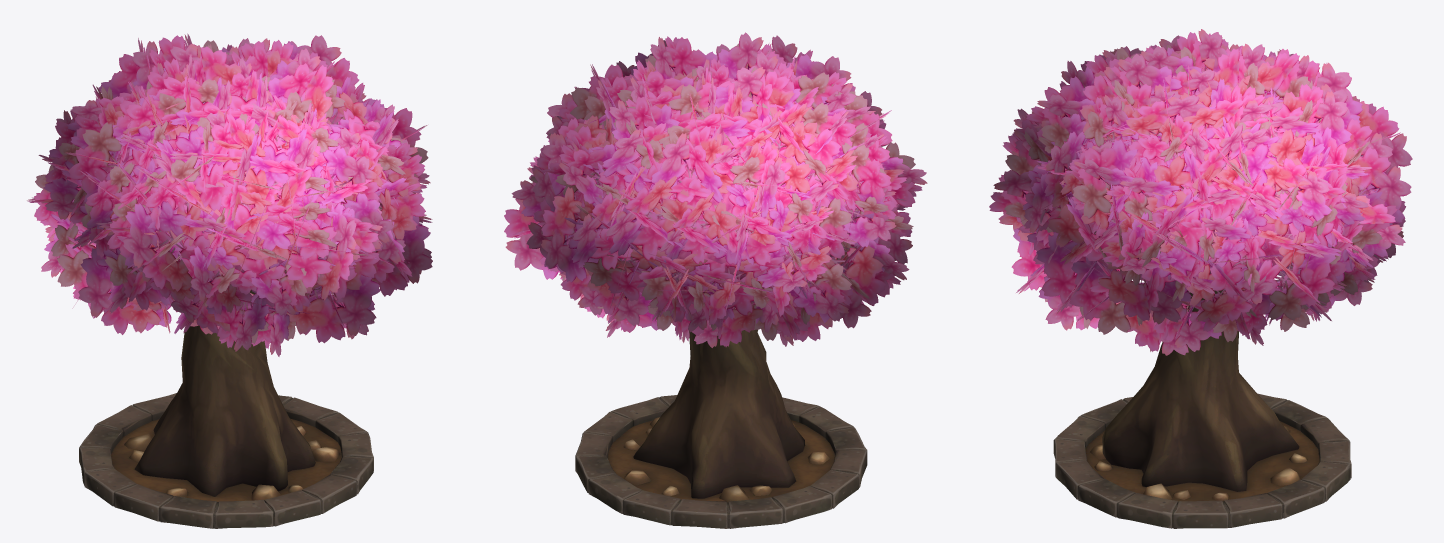
The model's file is Tree_CherryBlossom.fbx.
3 renders of one model, left to right at view 1: azimuth 30°, elevation 25°; view 2: azimuth 150°, elevation 25°; view 3: azimuth 270°, elevation 25°, orthographic.
Parts seen in each view (by area): view 1: exterior_tree_pink_01 (1); view 2: exterior_tree_pink_01 (1); view 3: exterior_tree_pink_01 (1).
Part boxes in pixels (x1,y1,x2,y2): exterior_tree_pink_01 (1): (27, 33, 432, 528); exterior_tree_pink_01 (1): (504, 32, 927, 528); exterior_tree_pink_01 (1): (989, 29, 1412, 528).
Bounding box in the file's own units: 306 × 325 × 313.
